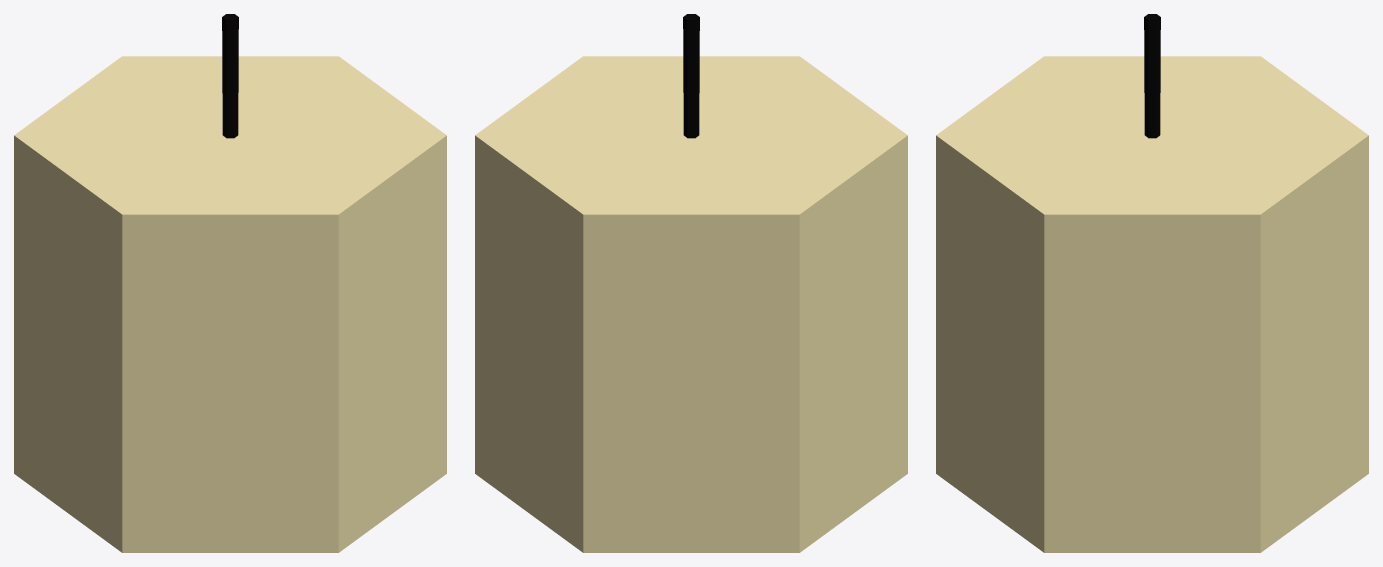
Rendered from candle.002.fbx.
The picture shows the model from 3 angles, left to right: view 1: azimuth 30°, elevation 25°; view 2: azimuth 150°, elevation 25°; view 3: azimuth 270°, elevation 25°; orthographic projection.
Parts seen in each view (by area): view 1: candle.002; view 2: candle.002; view 3: candle.002.
Part boxes in pixels (<box>): candle.002: <box>14,14,446,552</box>; candle.002: <box>475,14,907,552</box>; candle.002: <box>936,14,1368,552</box>.
Size of the model in its own units: 10.44 by 14.04 by 12.06.
